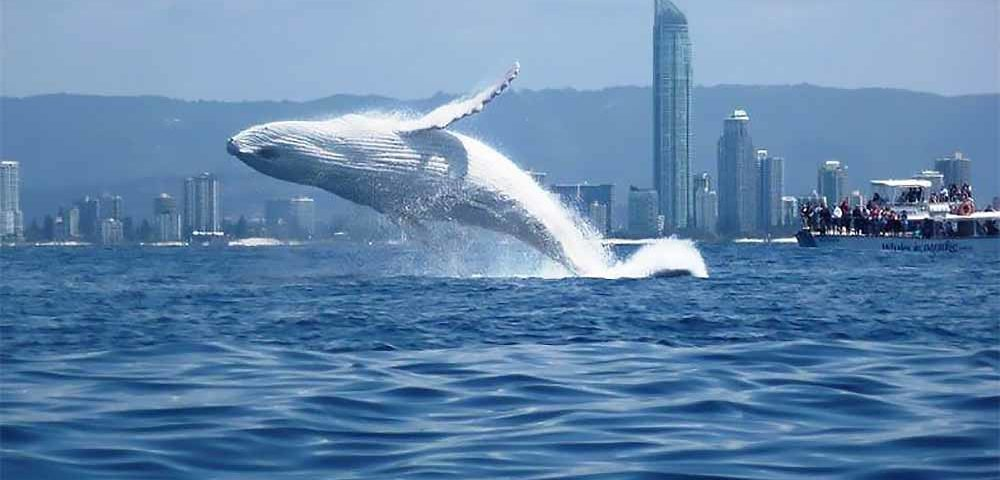humpback: (228, 110, 613, 268)
